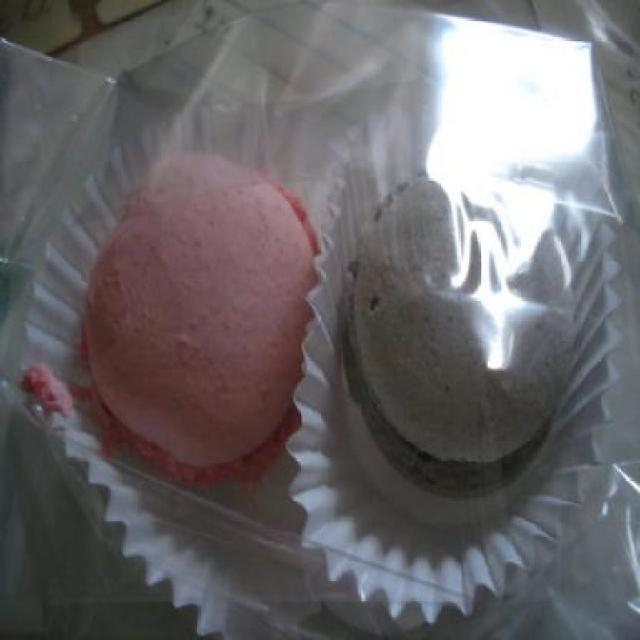Macaron: (73, 145, 598, 537)
